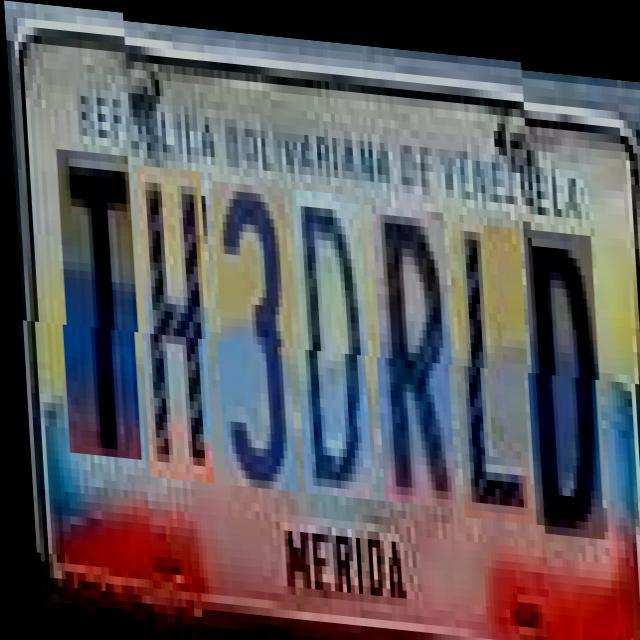3: (210, 176, 296, 486)
D: (289, 183, 372, 493), (520, 210, 602, 520)
H: (134, 162, 212, 480)
L: (450, 212, 530, 514)
R: (370, 198, 454, 500)
T: (54, 156, 140, 466)
